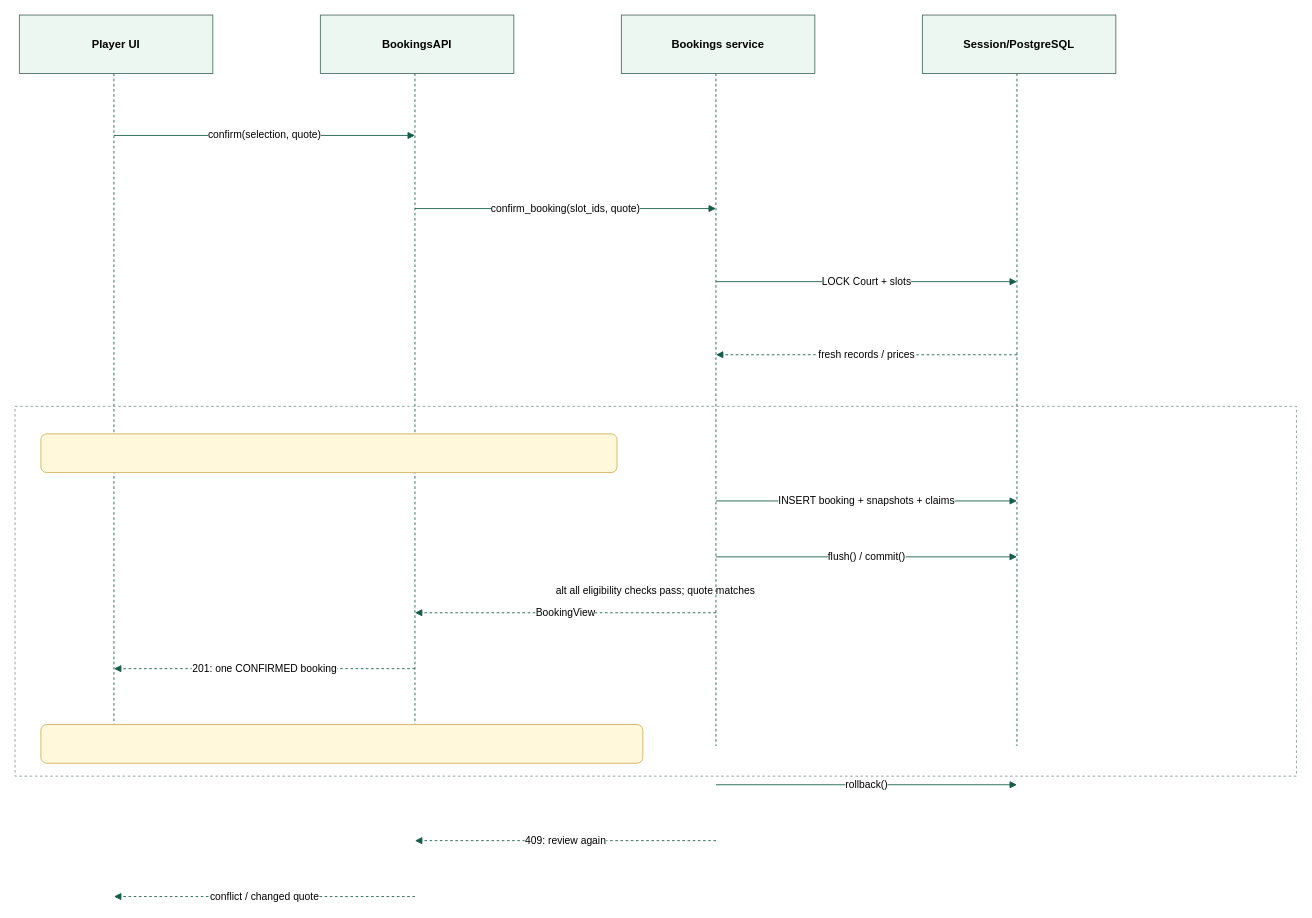
This 1312x918 diagram has some shape labels left out. Each missing label, with the centre of its shape:
else Unmet guard / conflict: [341,743]
Success / eligibility satisfied: [328,453]
